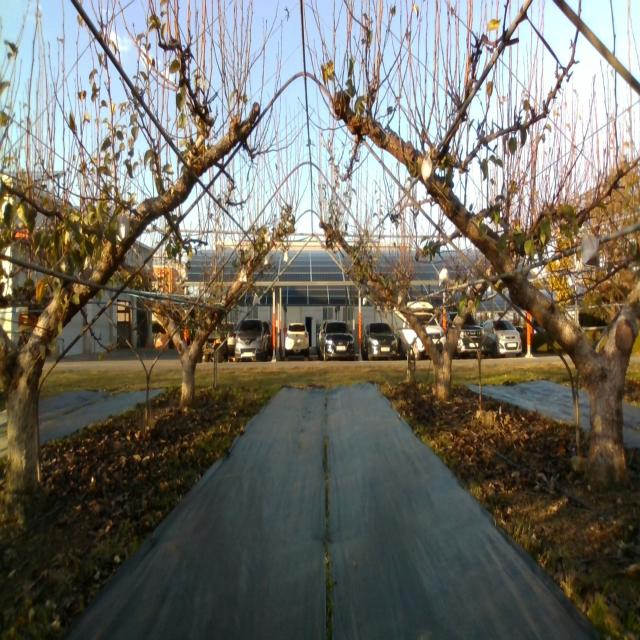pearbags: (581, 235, 600, 267), (117, 212, 130, 243), (421, 153, 433, 184), (438, 267, 450, 287)
